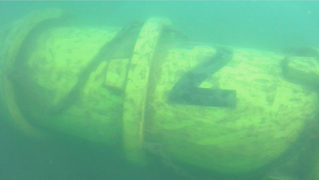2: (166, 41, 236, 109)
pipe: (1, 8, 319, 180)
